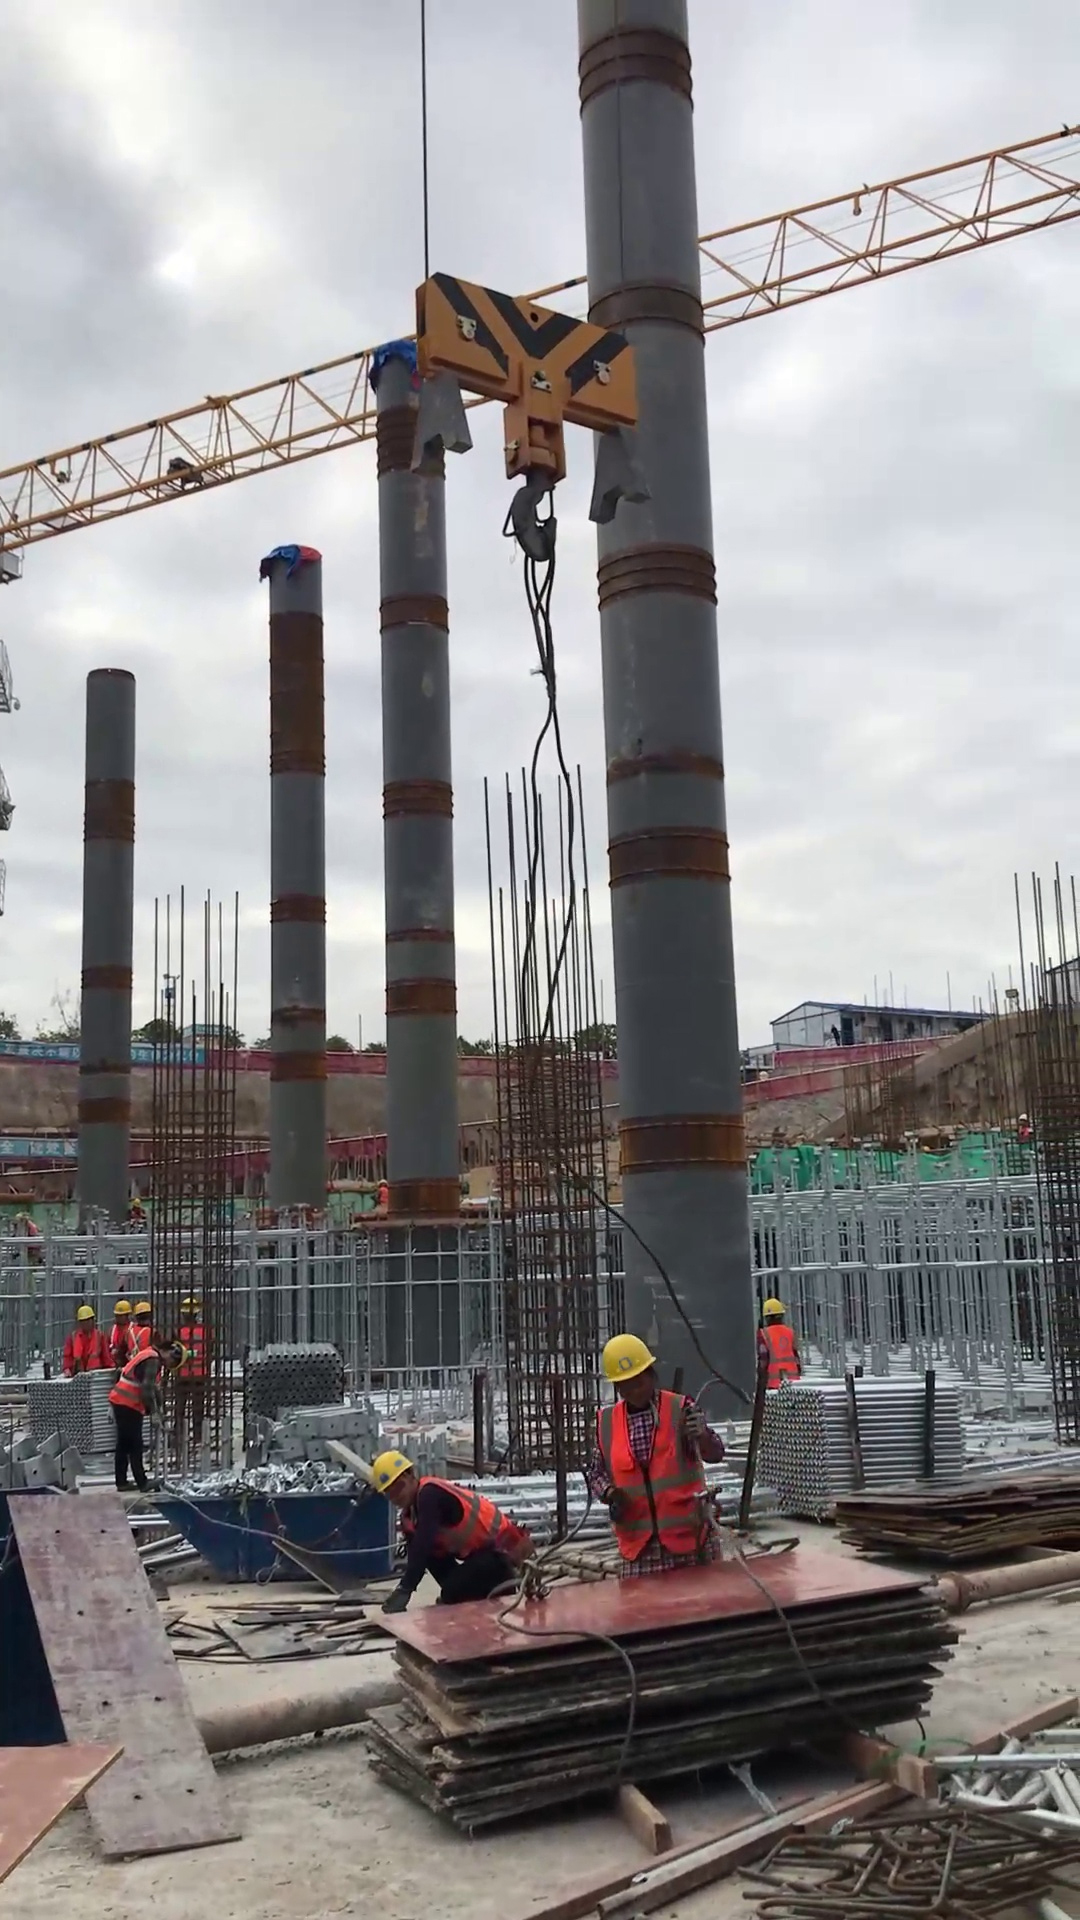board: (349, 1534, 976, 1853), (835, 1465, 1080, 1581)
helmet: (592, 1332, 659, 1383), (364, 1447, 415, 1498), (754, 1296, 792, 1324), (70, 1302, 99, 1329), (108, 1296, 133, 1320), (173, 1340, 190, 1371), (129, 1302, 152, 1318)
hook: (414, 260, 664, 570)
hopper: (168, 1479, 385, 1589)
person: (579, 1328, 738, 1584), (357, 1445, 546, 1620), (104, 1337, 195, 1505), (743, 1288, 810, 1406), (55, 1299, 115, 1387), (101, 1293, 139, 1371), (125, 1299, 159, 1368)
scaffold: (750, 1368, 974, 1528), (235, 1338, 351, 1426), (24, 1376, 114, 1469)
slogan: (1, 1135, 87, 1158), (1, 1040, 83, 1061)
vest: (591, 1392, 720, 1564), (391, 1475, 540, 1573), (107, 1350, 162, 1421), (756, 1323, 808, 1393), (67, 1327, 106, 1375), (106, 1320, 132, 1363), (128, 1322, 156, 1363)
